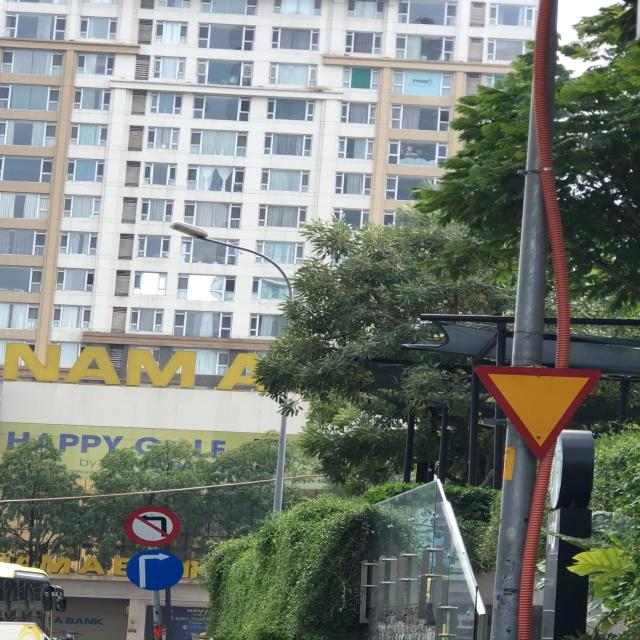Bien bao cam re trai: (123, 503, 185, 547)
Bien bao giao nhau voi duong uu tien: (470, 362, 614, 464)
Bien bao huong di phai theo: (123, 546, 189, 597)
